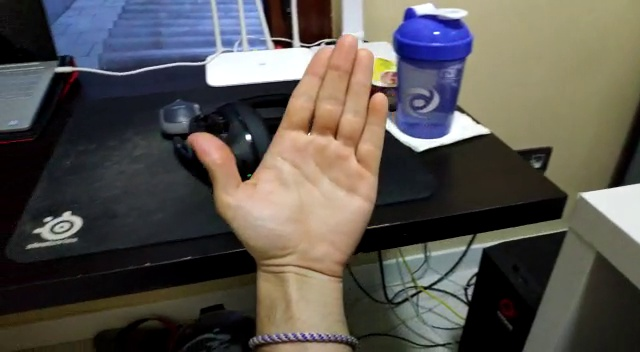Palm: (186, 32, 391, 276)
